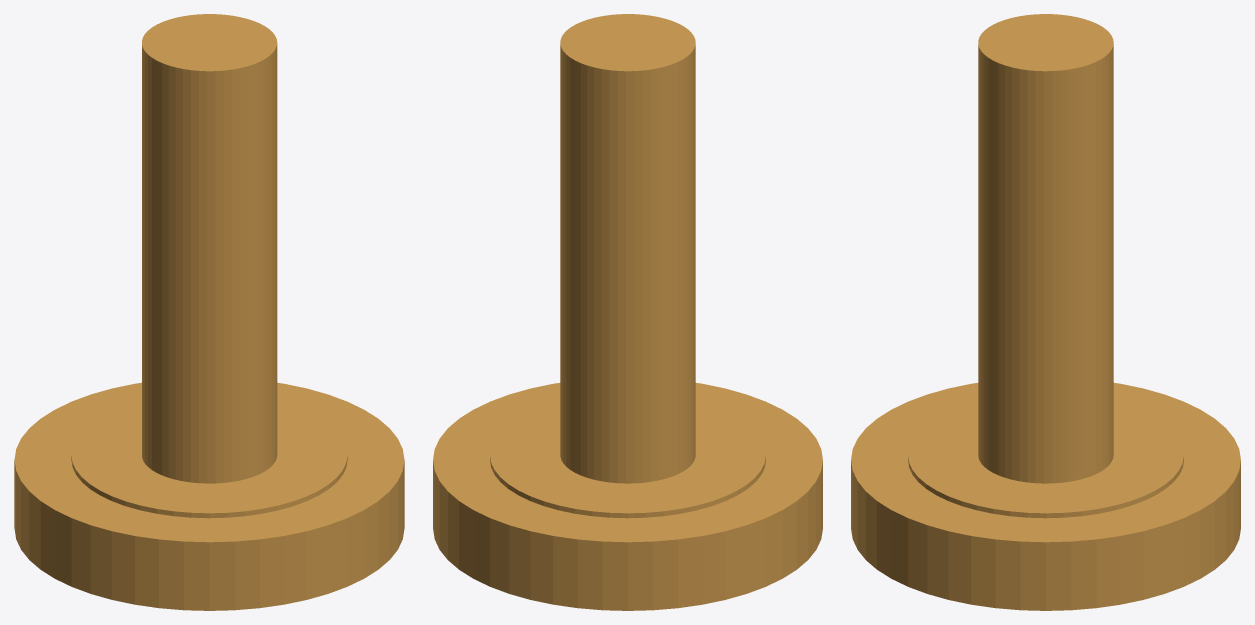
File: pin.glb
The picture shows the model from 3 angles, left to right: view 1: azimuth 30°, elevation 25°; view 2: azimuth 150°, elevation 25°; view 3: azimuth 270°, elevation 25°; orthographic projection.
Visible parts, largest first — view 1: Mesh_Mesh_head_geo.001_lambert2SG.001; view 2: Mesh_Mesh_head_geo.001_lambert2SG.001; view 3: Mesh_Mesh_head_geo.001_lambert2SG.001.
Part boxes in pixels (x1,y1,x2,y2): Mesh_Mesh_head_geo.001_lambert2SG.001: (14,14,404,610); Mesh_Mesh_head_geo.001_lambert2SG.001: (433,14,822,610); Mesh_Mesh_head_geo.001_lambert2SG.001: (851,14,1240,610).
Size of the model in its own units: 0.0072 by 0.0099 by 0.0072.
